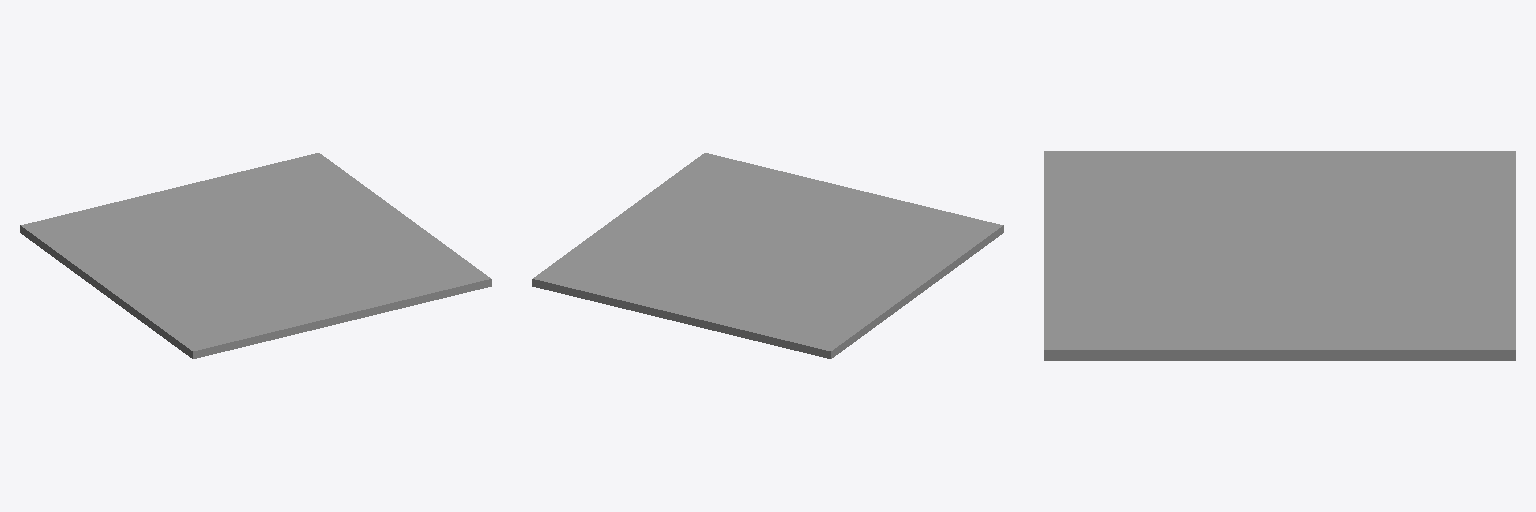
robot.urdf — ground_skeleton:
<?xml version="1.0"?>
<!-- DART-authored sample, distributed under the repository BSD-2-Clause license. -->
<robot name="ground_skeleton">
  <link name="world" />
  <link name="ground_link">
    <visual>
      <origin xyz="0 0 -0.025" />
      <geometry><box size="2 2 0.05" /></geometry>
      <material name="ground"><color rgba="0.65 0.65 0.65 1" /></material>
    </visual>
    <collision>
      <origin xyz="0 0 -0.025" />
      <geometry><box size="2 2 0.05" /></geometry>
    </collision>
  </link>
  <joint name="ground_joint" type="fixed">
    <parent link="world" />
    <child link="ground_link" />
  </joint>
</robot>

--- What the picture shows (computed from the rendered views, not written in the file) ---
The picture shows the robot from 3 angles, left to right: view 1: azimuth 30°, elevation 25°; view 2: azimuth 150°, elevation 25°; view 3: azimuth 270°, elevation 25°; orthographic projection.
Model ground_skeleton with 2 links and 1 joints (1 fixed), rooted at world, posed all joints at 0.
Links seen in each view (by area): view 1: ground_link; view 2: ground_link; view 3: ground_link.
Link boxes in pixels (<box>): ground_link: <box>20,153,491,358</box>; ground_link: <box>532,153,1003,358</box>; ground_link: <box>1044,151,1515,360</box>.
Bounding box of the posed robot: 2 × 2 × 0.05 m (x, y, z).
Geometry: primitives only (box / cylinder / sphere), no mesh files.
